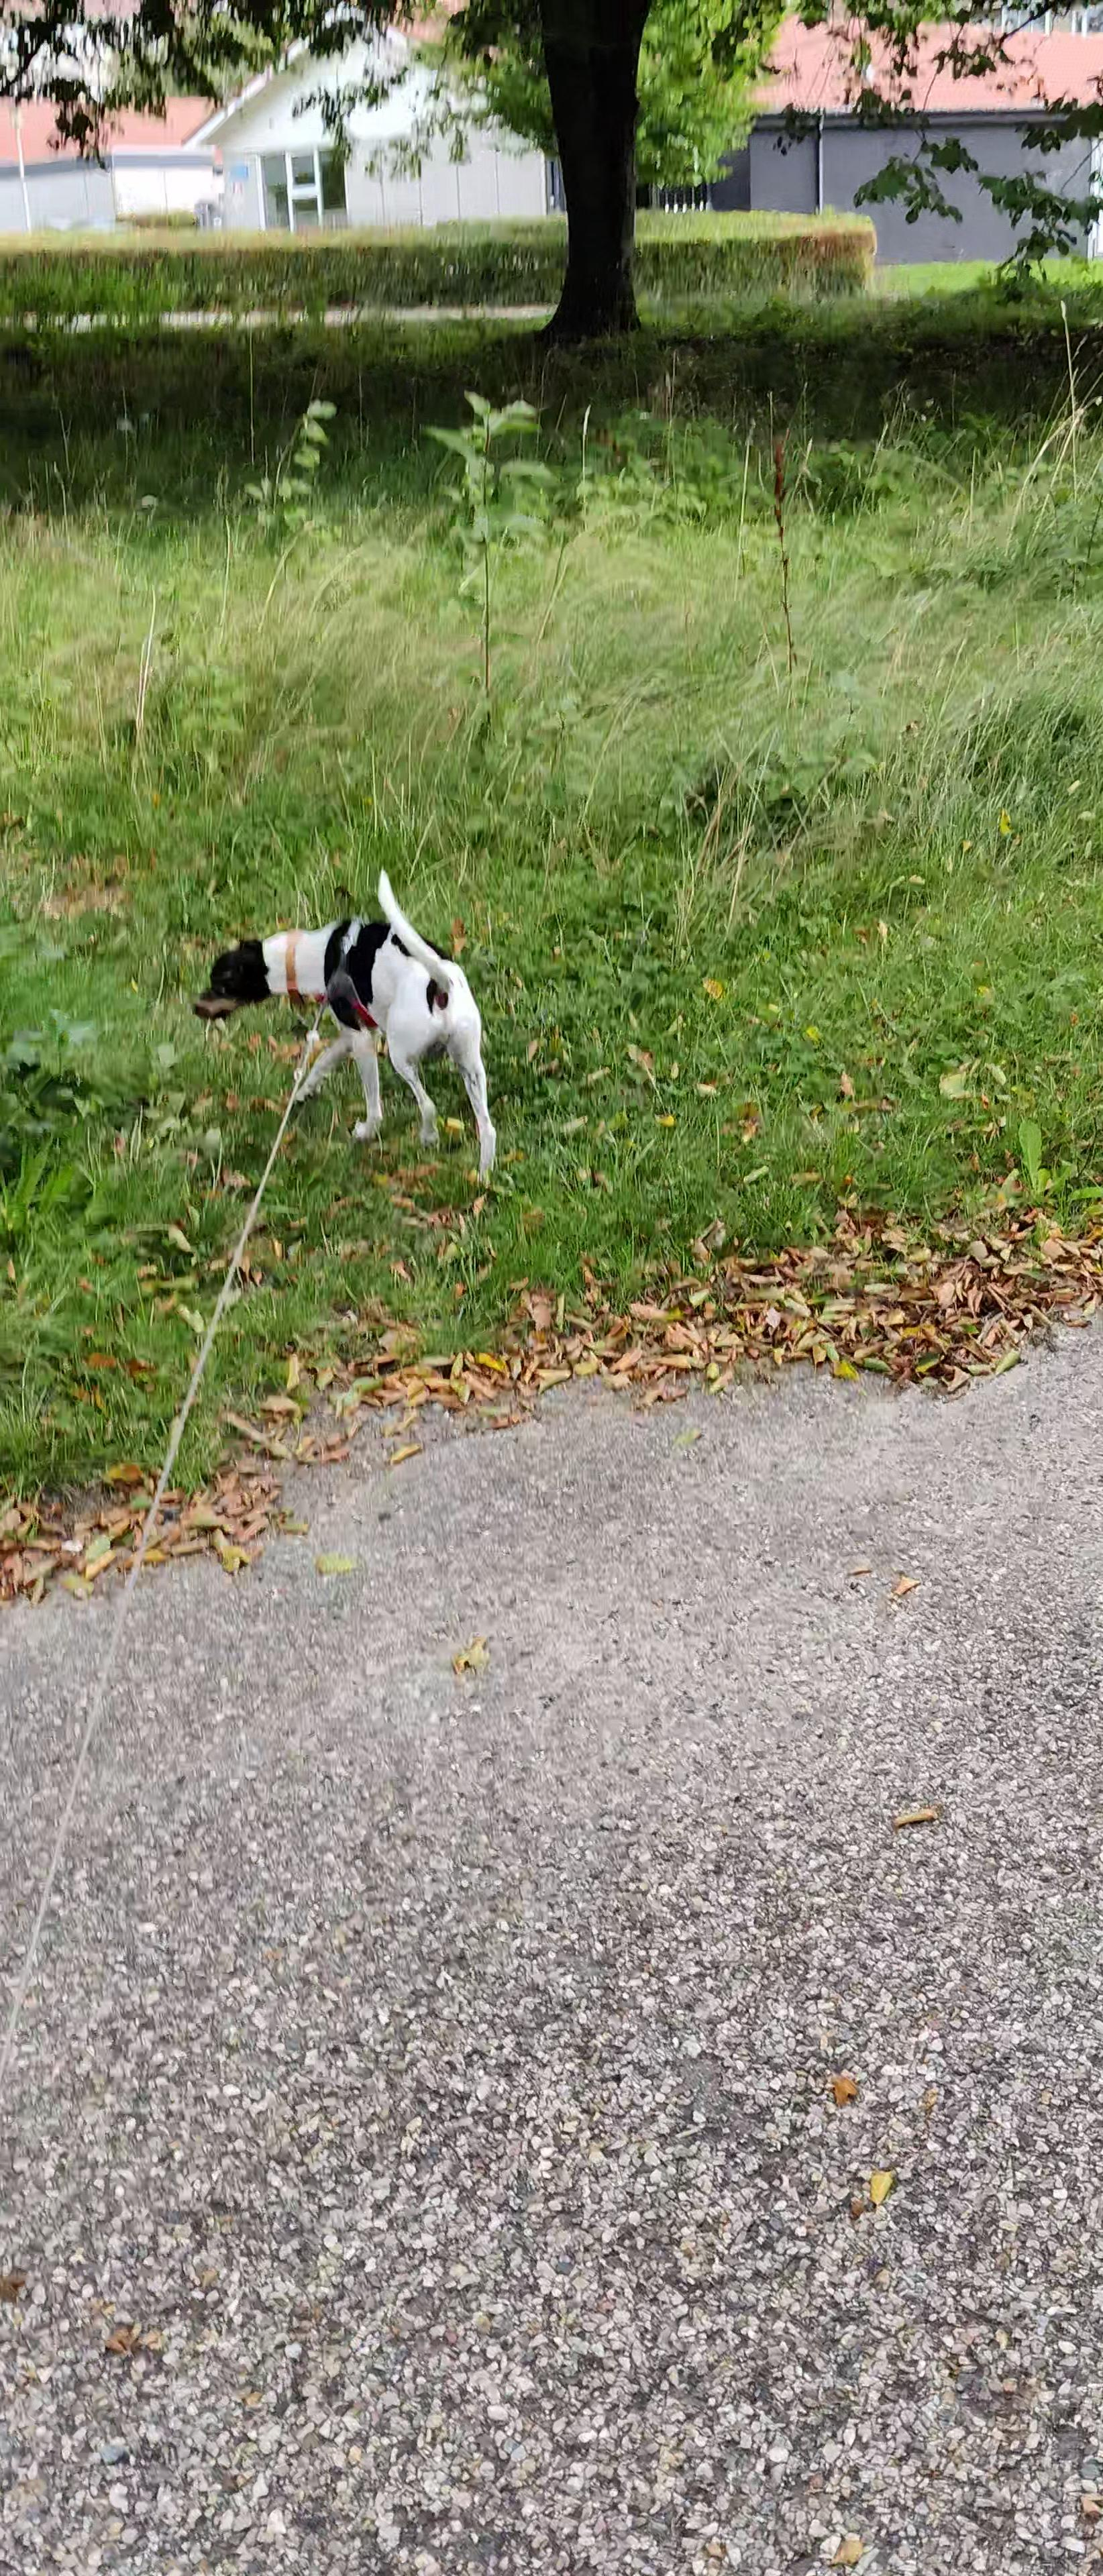Dog: (181, 853, 511, 1196)
